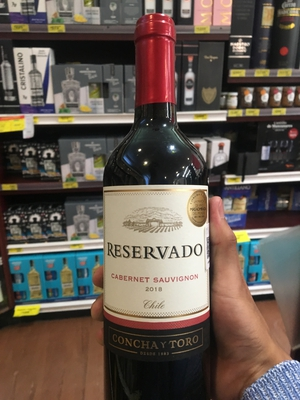reservado cabernet sauvignon: (94, 24, 224, 399)
